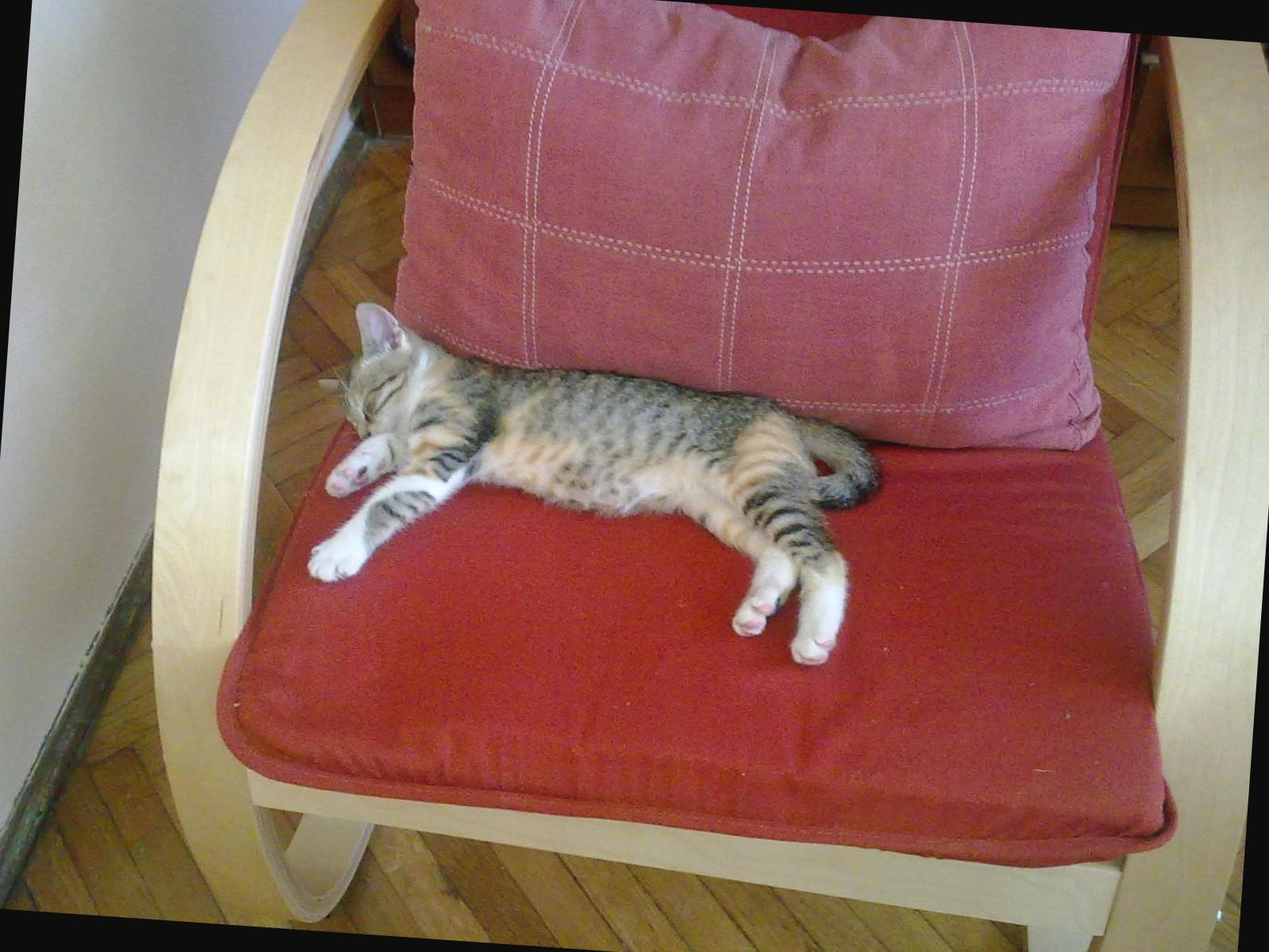macka: (300, 290, 887, 672)
